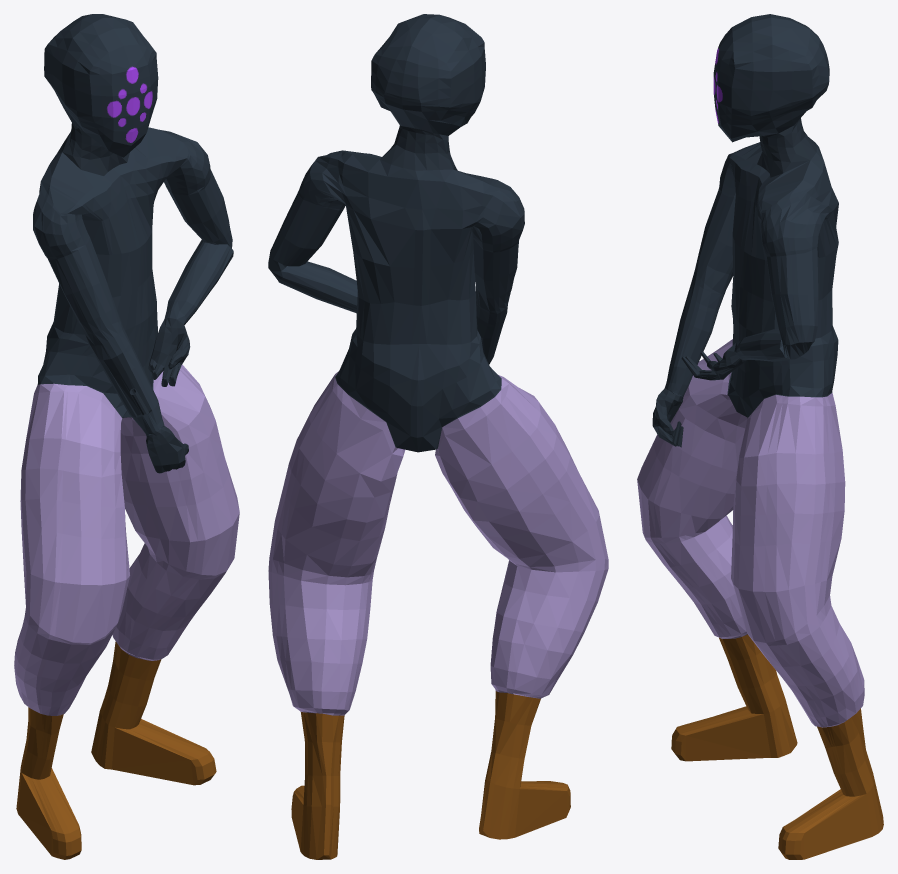
File: Oracle_WR_000012.obj
3 views of the same model, side by side, from view 1: azimuth 30°, elevation 25°; view 2: azimuth 150°, elevation 25°; view 3: azimuth 270°, elevation 25° (orthographic). The views are drawn at different scales.
Visible parts, largest first — view 1: Cube; view 2: Cube; view 3: Cube.
Boxes of the visible parts, box(x1,y1,x2,y2) form: Cube: box(14, 14, 239, 859); Cube: box(268, 14, 608, 859); Cube: box(637, 14, 883, 859).
Size of the model in its own units: 1.32 by 3.8 by 1.08.
